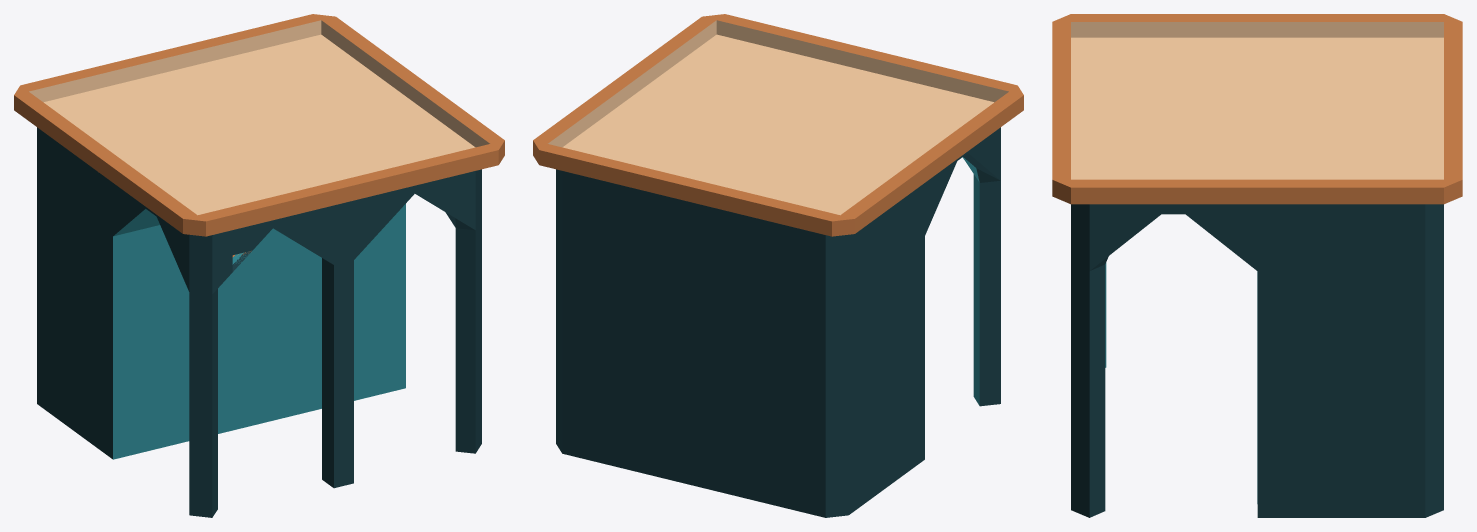
Rendered from ModuloPorches.fbx.
3 views of the same model, side by side, from view 1: azimuth 30°, elevation 25°; view 2: azimuth 150°, elevation 25°; view 3: azimuth 270°, elevation 25° (orthographic). The views are drawn at different scales.
Parts seen in each view (by area): view 1: Cube.216; view 2: Cube.216; view 3: Cube.216.
Part boxes in pixels (x1,y1,x2,y2): Cube.216: (14,14,504,517); Cube.216: (533,14,1023,517); Cube.216: (1052,14,1462,517).
Size of the model in its own units: 220 by 200 by 220.
